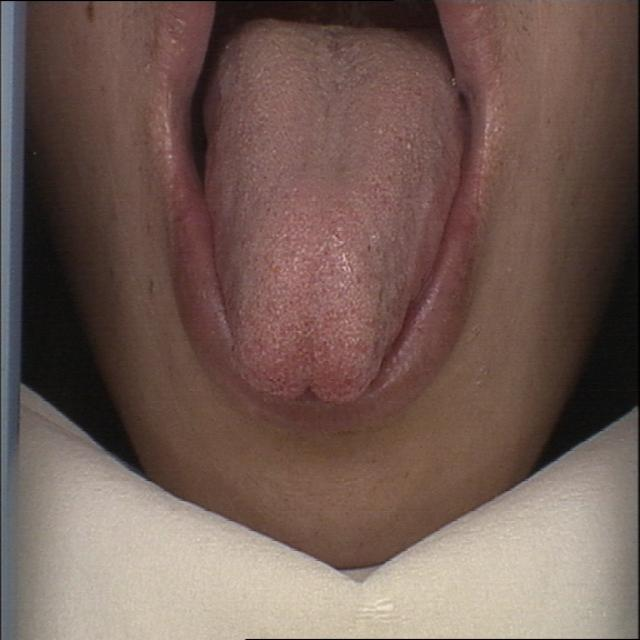tongue: (194, 9, 472, 409)
